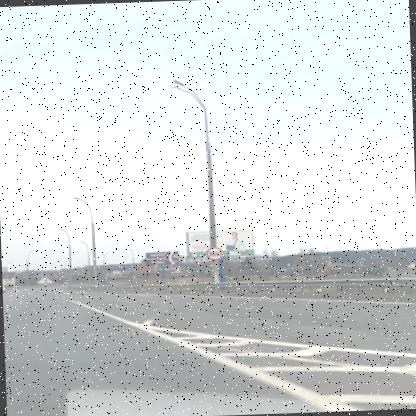speedlimit: (205, 245, 221, 260)
